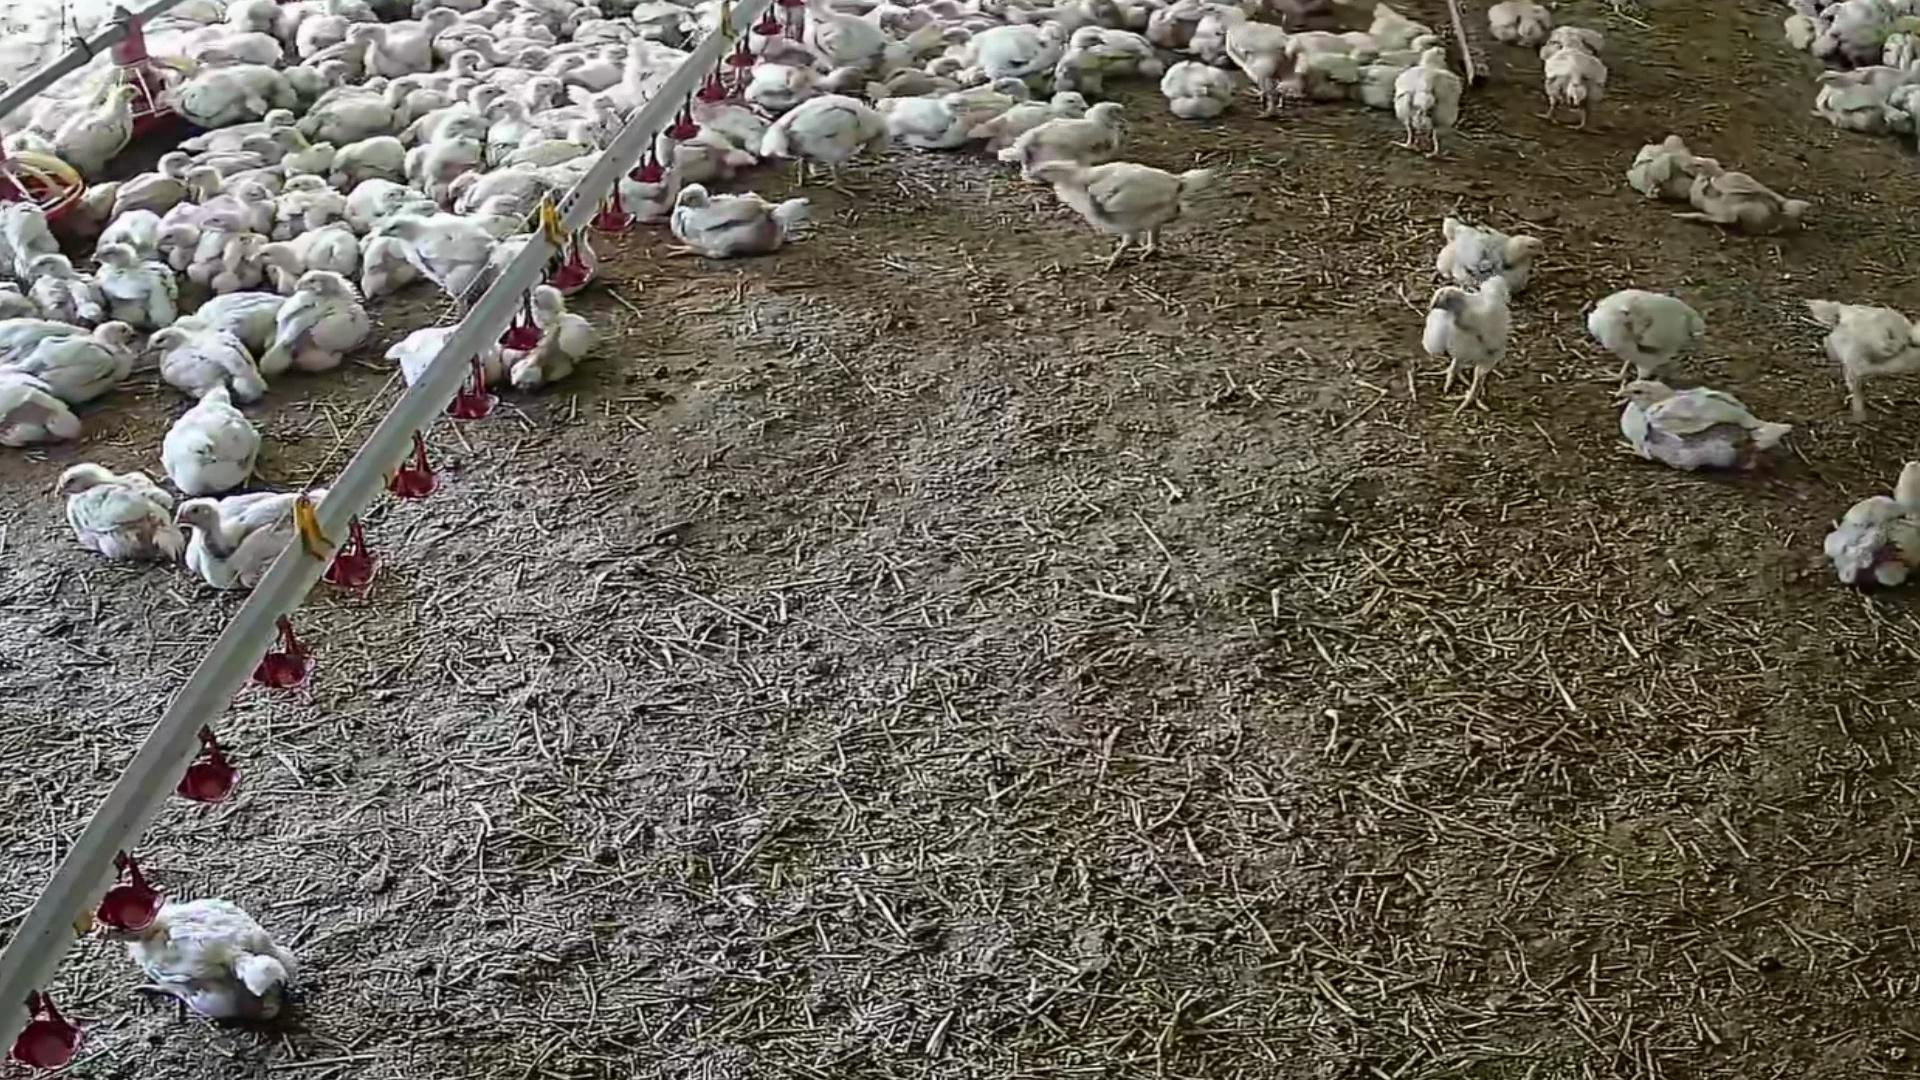poussin: (94, 894, 349, 1072), (1005, 156, 1226, 272), (1610, 371, 1800, 492), (22, 450, 195, 580), (164, 481, 343, 599), (1788, 270, 1920, 423), (1557, 264, 1710, 392), (1813, 438, 1920, 613), (1400, 277, 1542, 405), (663, 175, 828, 278), (144, 385, 298, 495), (273, 260, 392, 393), (1418, 191, 1560, 289), (491, 284, 607, 398), (1540, 44, 1643, 171), (1021, 102, 1180, 181), (764, 94, 885, 194), (375, 212, 502, 303), (1213, 7, 1308, 128), (1383, 55, 1489, 162), (1692, 166, 1818, 253), (36, 324, 165, 407), (61, 82, 148, 189), (169, 65, 316, 125), (0, 365, 94, 460), (301, 79, 430, 148), (802, 0, 913, 78), (243, 211, 360, 284), (957, 7, 1076, 75), (94, 243, 191, 324), (877, 79, 976, 157), (676, 92, 775, 170), (1619, 131, 1713, 208), (153, 331, 248, 404), (1044, 22, 1131, 98), (1812, 63, 1903, 132), (1163, 53, 1240, 129), (444, 167, 554, 212), (1083, 12, 1167, 70), (433, 115, 488, 193), (1481, 0, 1557, 51), (1840, 1, 1902, 65), (202, 210, 276, 262), (3, 198, 70, 255), (359, 24, 430, 73), (1014, 83, 1101, 121), (203, 115, 295, 150), (191, 175, 276, 214), (129, 146, 186, 203), (37, 252, 105, 295), (352, 181, 414, 225), (153, 219, 211, 261), (574, 95, 625, 142), (575, 5, 630, 47), (906, 8, 956, 54), (1391, 26, 1458, 58), (471, 28, 524, 66), (493, 91, 539, 135), (527, 74, 574, 112), (190, 166, 241, 195), (425, 3, 465, 32), (282, 173, 327, 196), (468, 78, 506, 104), (521, 41, 555, 70), (551, 51, 587, 79), (476, 0, 529, 18), (517, 15, 562, 36), (446, 74, 483, 99), (447, 54, 488, 74)
